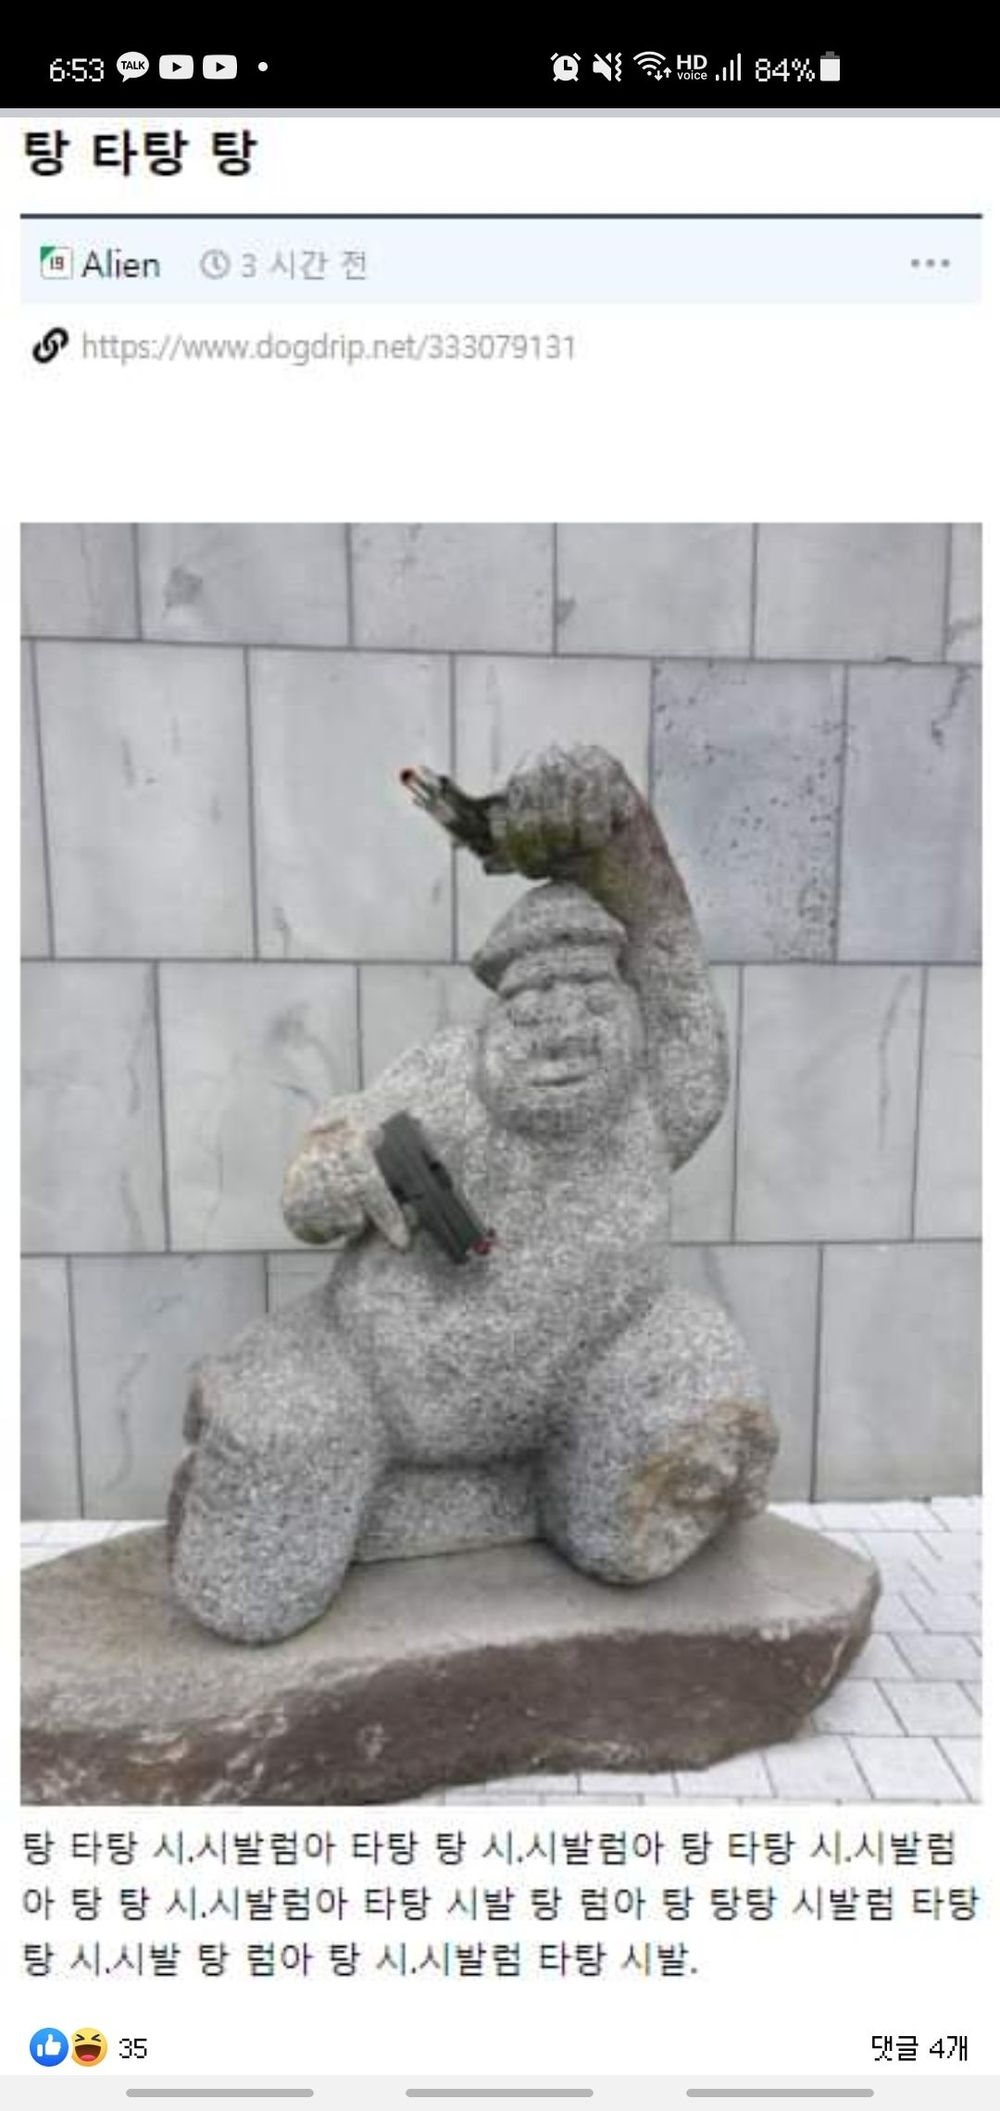Stone Statue: (51, 710, 914, 1749)
